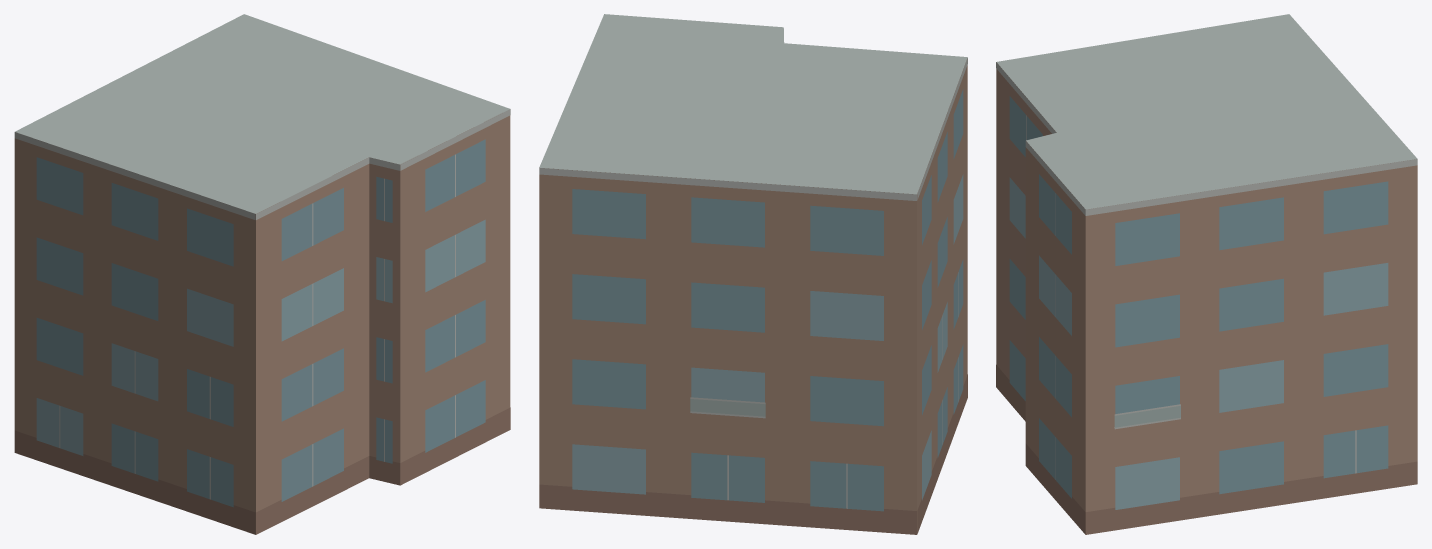
The model's file is survey-upis-32842349.glb.
3 renders of one model, left to right at view 1: azimuth 30°, elevation 25°; view 2: azimuth 150°, elevation 25°; view 3: azimuth 270°, elevation 25°, orthographic. The views are drawn at different scales.
Visible parts, largest first — view 1: survey-upis-32842349.tmp; view 2: survey-upis-32842349.tmp; view 3: survey-upis-32842349.tmp.
Part boxes in pixels (x1=…): survey-upis-32842349.tmp: x1=14, y1=14, x2=510, y2=534; survey-upis-32842349.tmp: x1=539, y1=14, x2=967, y2=534; survey-upis-32842349.tmp: x1=996, y1=14, x2=1417, y2=534.
Size of the model in its own units: 15.87 by 12.3 by 14.45.
